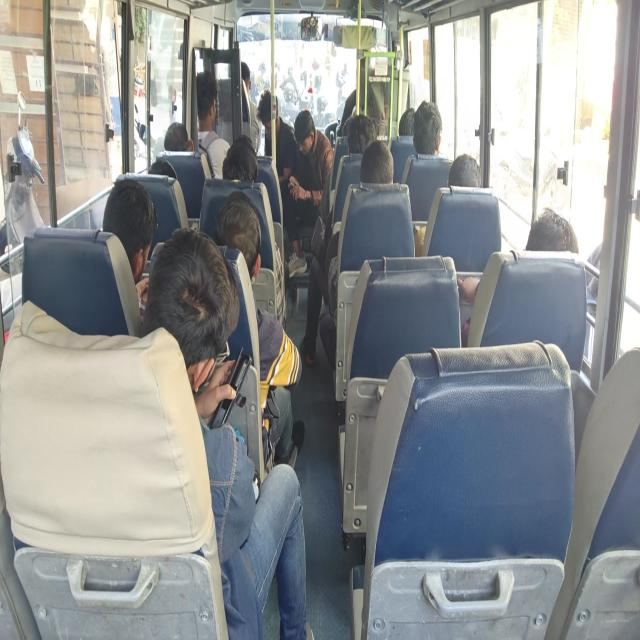person: (146, 228, 256, 408), (104, 170, 158, 272), (522, 215, 570, 278), (218, 150, 272, 204), (214, 196, 248, 260), (367, 144, 399, 206), (296, 125, 327, 180), (454, 144, 481, 203), (412, 102, 439, 148), (148, 161, 175, 201), (174, 114, 200, 154), (198, 80, 216, 128), (234, 68, 260, 101), (350, 119, 374, 154), (264, 97, 283, 141), (230, 128, 249, 158), (399, 111, 419, 133), (341, 118, 355, 130)
